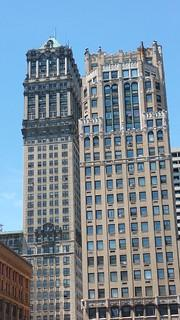building: (79, 41, 180, 320), (17, 35, 86, 320)
